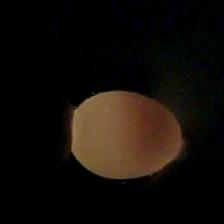infertile: (68, 90, 182, 181)
